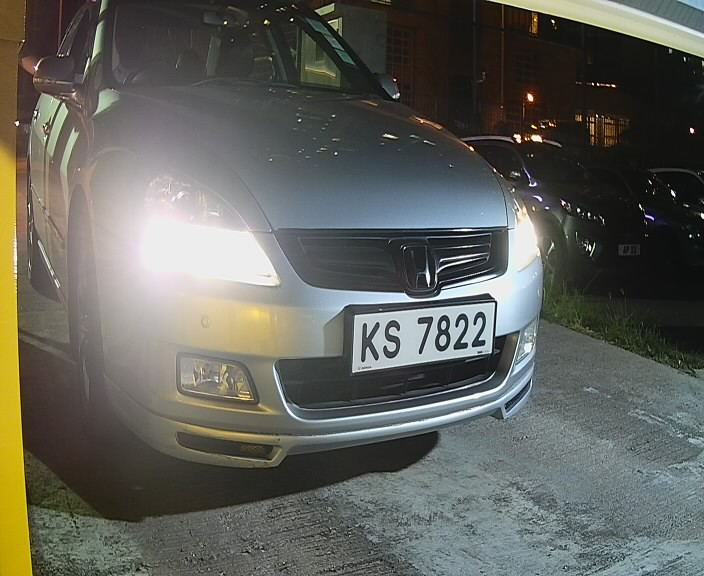Car: (15, 2, 561, 474)
License Plate: (331, 290, 502, 387)
